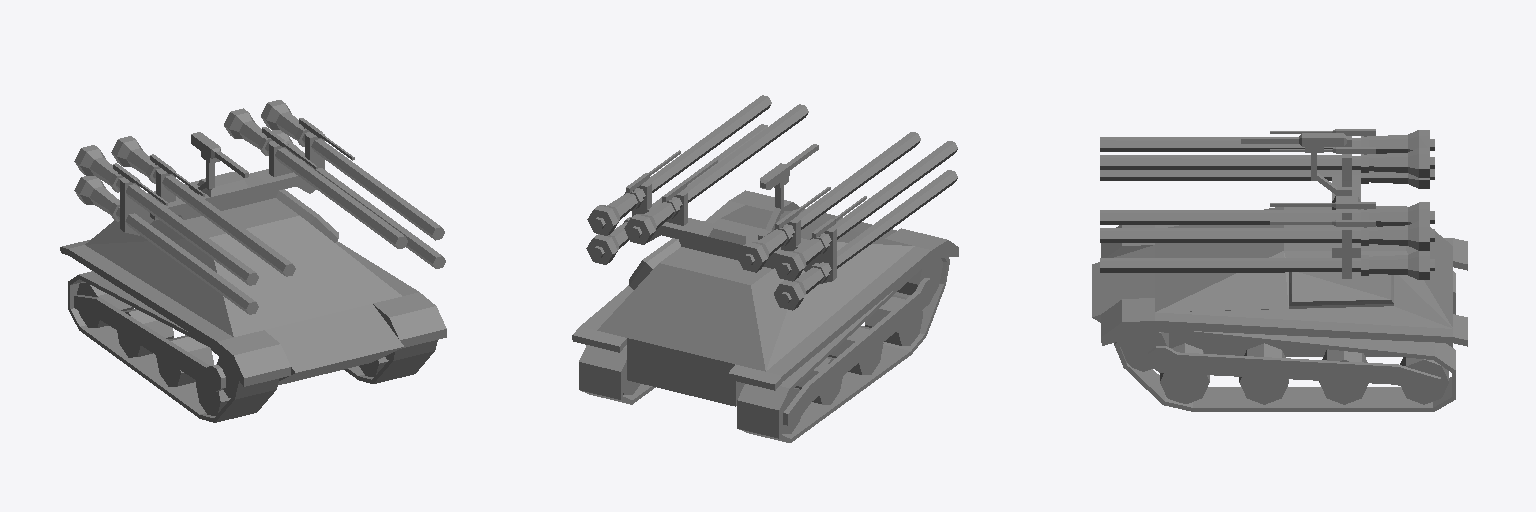
Rendered from tank.obj.
3 views of the same model, side by side, from view 1: azimuth 30°, elevation 25°; view 2: azimuth 150°, elevation 25°; view 3: azimuth 270°, elevation 25° (orthographic).
Parts seen in each view (by area): view 1: m50ontos; view 2: m50ontos; view 3: m50ontos.
Part boxes in pixels (x1,y1,x2,y2): m50ontos: (60,100,446,422); m50ontos: (572,95,958,442); m50ontos: (1092,129,1467,411).
Size of the model in its own units: 41.66 by 39.83 by 63.68.